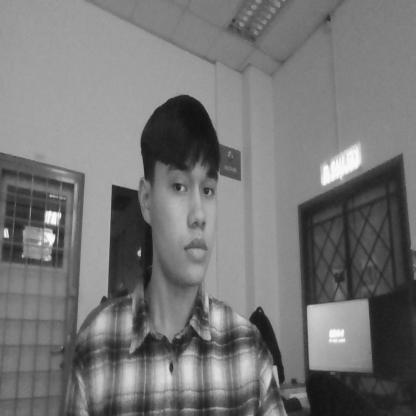Open-Eyes: (166, 169, 219, 210)
